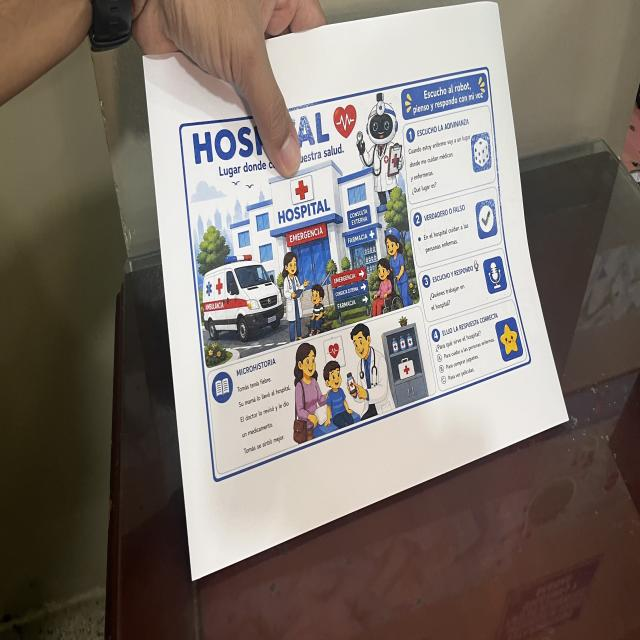hospital: (177, 61, 533, 487)
